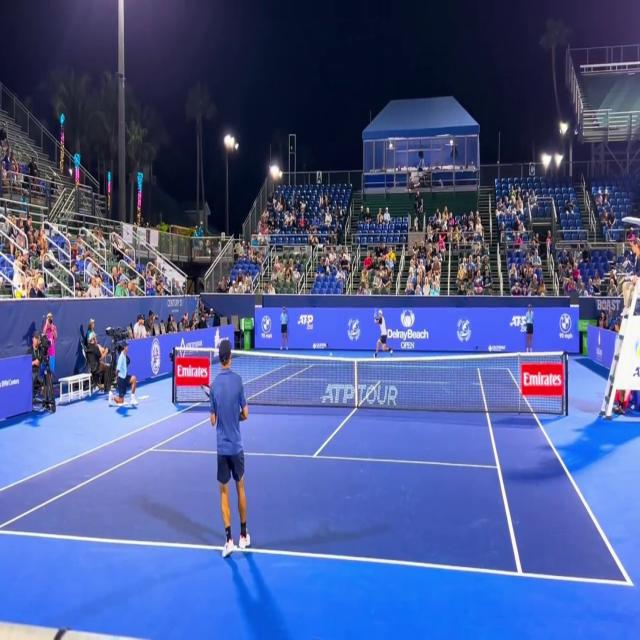tennisBall: (328, 347, 334, 360)
